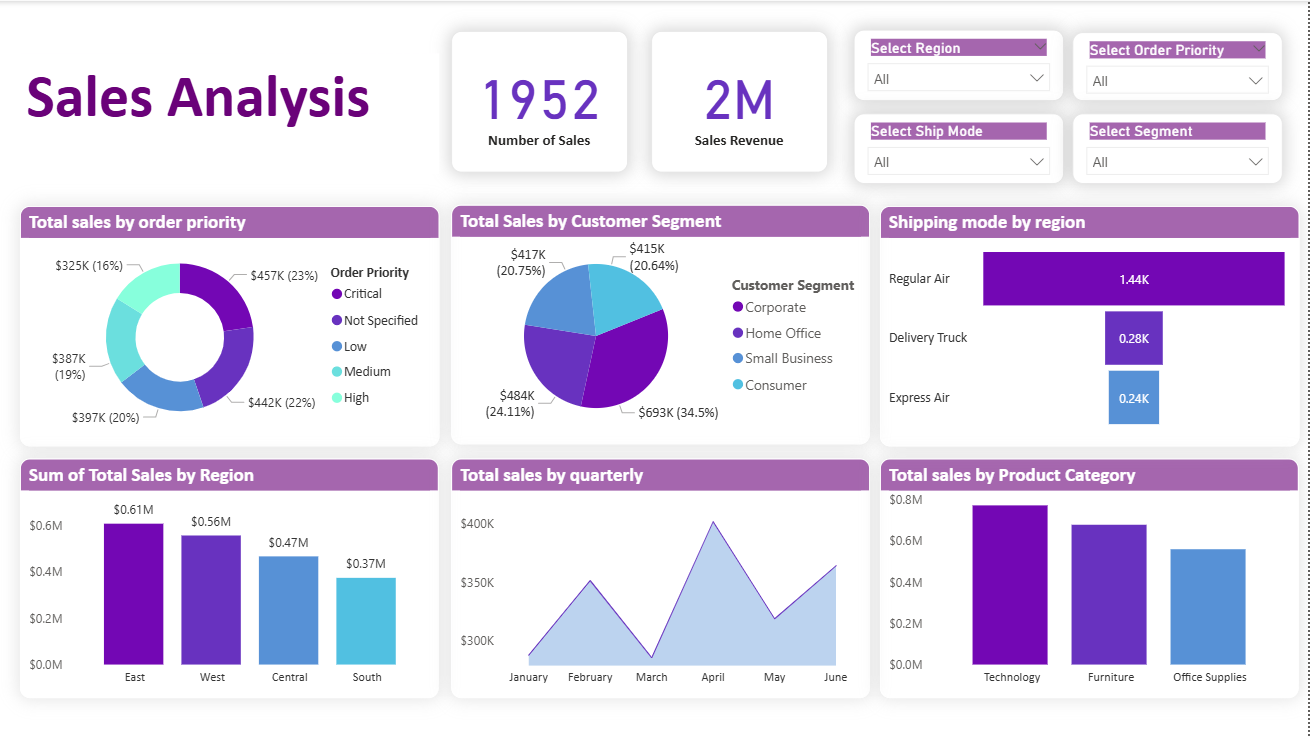

Layout of this report page (visuals, bound fields, positions):
{"tool":"powerbi","page":{"name":"Page 1","canvas":[1280,720],"ordinal":0},"visuals":[{"type":"card","fields":{"Values":["Orders.Number of Sales"]},"box":[441.4,29.3,172.4,138.2],"z":0},{"type":"donutChart","title":"Total sales by order priority","fields":{"Category":["Orders.Order Priority"],"Y":["Sum(Orders.Total Sales)"]},"box":[19.9,200.5,410,235],"z":1000},{"type":"pieChart","title":"Total Sales by Customer Segment","fields":{"Category":["Orders.Customer Segment"],"Y":["Sum(Orders.Total Sales)"]},"box":[441.8,199.3,409.6,234.8],"z":2000},{"type":"columnChart","fields":{"Category":["Orders.Region"],"Y":["Sum(Orders.Total Sales)"]},"box":[19.6,447.6,409.6,234.8],"z":3000},{"type":"areaChart","title":"Total sales by quarterly","fields":{"Category":["Orders.Order Date.Variation.Date Hierarchy.Month"],"Y":["Sum(Orders.Total Sales)"]},"box":[441.4,447.6,409.6,234.8],"z":4000},{"type":"columnChart","title":"Total sales by Product Category","fields":{"Category":["Orders.Product Category"],"Y":["Sum(Orders.Total Sales)"]},"box":[860.9,447.6,409.6,234.8],"z":5000},{"type":"funnel","title":"Shipping mode by region","fields":{"Category":["Orders.Ship Mode"],"Y":["CountNonNull(Orders.Region)"]},"box":[861.2,200.5,410,235],"z":6000},{"type":"slicer","fields":{"Values":["Orders.Region"]},"box":[835.2,28.1,205.4,69.7],"z":7000},{"type":"slicer","fields":{"Values":["Orders.Order Priority"]},"box":[1049.2,30.6,205.4,67.3],"z":8000},{"type":"card","fields":{"Values":["Orders.Sales Revinue"]},"box":[637.1,29.3,172.4,138.2],"z":9000},{"type":"slicer","fields":{"Values":["Orders.Ship Mode"]},"box":[835.2,110.1,205.4,68.5],"z":10000},{"type":"slicer","fields":{"Values":["Orders.Customer Segment"]},"box":[1049.2,110.1,205.4,68.5],"z":11000},{"type":"textbox","box":[20.8,26.9,408.4,144.3],"z":12000}]}

Visuals, with their boxes in screenshot pixels (x1, y1, x2, y2), scaled from the page's 1280x720 canvas onto the 1310x736 screenshot:
card - Orders.Number of Sales: [x1=452, y1=30, x2=628, y2=171]
"Total sales by order priority" donutChart: [x1=20, y1=205, x2=440, y2=445]
"Total Sales by Customer Segment" pieChart: [x1=452, y1=204, x2=871, y2=444]
columnChart - Orders.Region x Sum(Orders.Total Sales): [x1=20, y1=458, x2=439, y2=698]
"Total sales by quarterly" areaChart: [x1=452, y1=458, x2=871, y2=698]
"Total sales by Product Category" columnChart: [x1=881, y1=458, x2=1300, y2=698]
"Shipping mode by region" funnel: [x1=881, y1=205, x2=1301, y2=445]
slicer - Orders.Region: [x1=855, y1=29, x2=1065, y2=100]
slicer - Orders.Order Priority: [x1=1074, y1=31, x2=1284, y2=100]
card - Orders.Sales Revinue: [x1=652, y1=30, x2=828, y2=171]
slicer - Orders.Ship Mode: [x1=855, y1=113, x2=1065, y2=183]
slicer - Orders.Customer Segment: [x1=1074, y1=113, x2=1284, y2=183]
textbox: [x1=21, y1=27, x2=439, y2=175]
